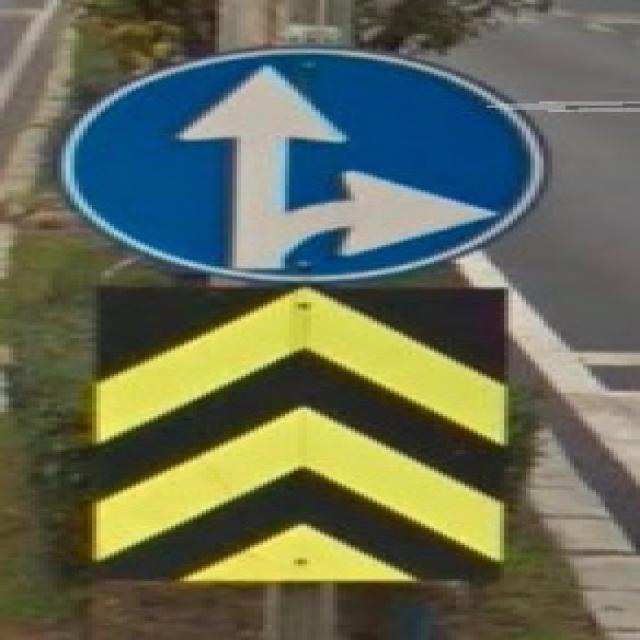Straight or Right: (71, 48, 545, 281)
